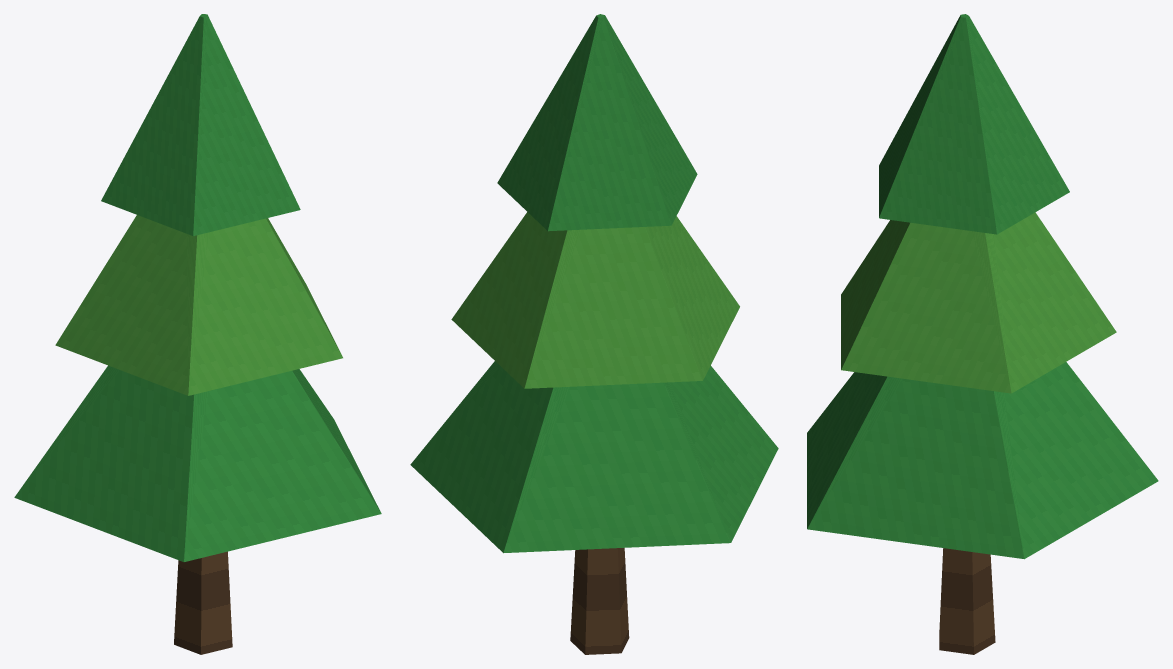
The model's file is tree-pine-lod1.glb.
3 views of the same model, side by side, from view 1: azimuth 30°, elevation 25°; view 2: azimuth 150°, elevation 25°; view 3: azimuth 270°, elevation 25° (orthographic).
Parts seen in each view (by area): view 1: tree-pine-lod1; view 2: tree-pine-lod1; view 3: tree-pine-lod1.
Boxes of the visible parts, left/top/right/bottom form: tree-pine-lod1: left=14, top=14, right=381, bottom=654; tree-pine-lod1: left=410, top=14, right=778, bottom=654; tree-pine-lod1: left=807, top=14, right=1158, bottom=654.
Size of the model in its own units: 2.38 by 4.44 by 2.26.
1 material, 1 textured.
